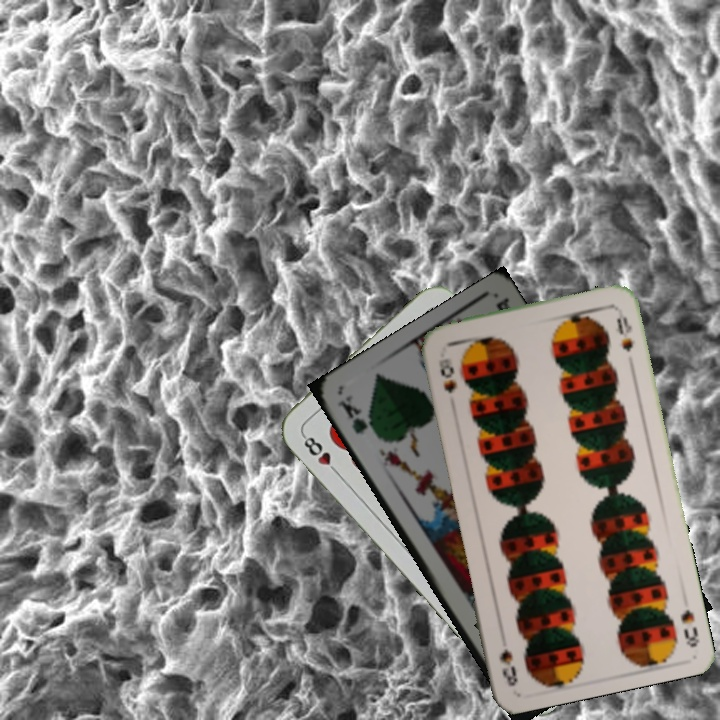GK: (333, 391, 371, 437)
H8: (298, 430, 343, 478)
S8: (677, 605, 702, 649), (435, 354, 459, 396)
